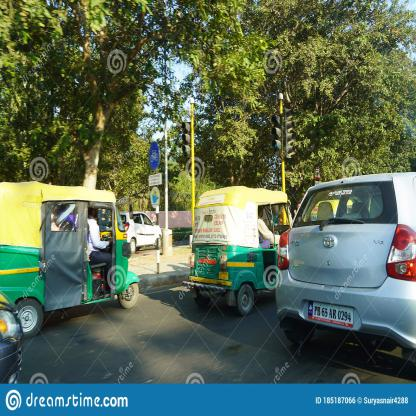car: (277, 173, 415, 379), (120, 212, 161, 250)
